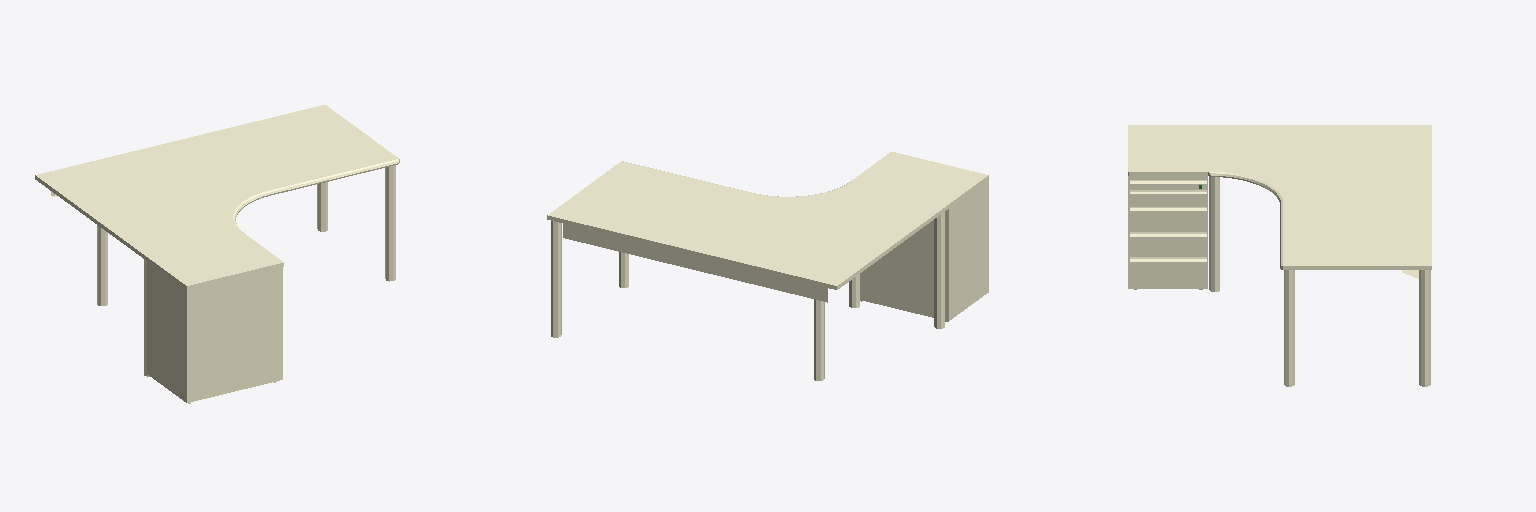
The model's file is desk2.obj.
The picture shows the model from 3 angles: view 1: azimuth 30°, elevation 25°; view 2: azimuth 150°, elevation 25°; view 3: azimuth 270°, elevation 25°; orthographic projection.
Parts seen in each view (by area): view 1: _2BNX13D05_7_16, _2BNL13D05_2_11, _2BNX13D05_7_7, _2BNL13D02_5_5, _2BNX13D07_1_1, _2BNL13D05_2_2, _2BNL13D02_5_14, _2BNX13D04_8_8; view 2: _2BNX13D05_7_16, _2BNX13D05_7_7, _2BNL13D05_2_11, _2BNX13D07_1_1, _2BNX13D03_9_18, _2BNL13D02_5_5, _2BNL13D02_5_14, _2BNL13D05_2_2; view 3: _2BNX13D05_7_16, _2BNX13D05_7_7, _2BNL13D04_3_12, _2BNX13D07_1_1, _2BNL13D02_5_5, _2BNL13D04_3_3, _2BNL13D02_5_14, _2BNX13D04_8_8.
Part boxes in pixels (left/top/right/bottom): _2BNX13D05_7_16: left=35, top=105, right=398, bottom=260; _2BNL13D05_2_11: left=147, top=262, right=282, bottom=402; _2BNX13D05_7_7: left=35, top=105, right=397, bottom=259; _2BNL13D02_5_5: left=147, top=233, right=282, bottom=289; _2BNX13D07_1_1: left=97, top=165, right=395, bottom=376; _2BNL13D05_2_2: left=147, top=263, right=282, bottom=402; _2BNL13D02_5_14: left=147, top=234, right=282, bottom=289; _2BNX13D04_8_8: left=208, top=159, right=399, bottom=232; _2BNX13D05_7_16: left=547, top=161, right=947, bottom=289; _2BNX13D05_7_7: left=547, top=161, right=948, bottom=289; _2BNL13D05_2_11: left=860, top=180, right=988, bottom=320; _2BNX13D07_1_1: left=551, top=212, right=944, bottom=380; _2BNX13D03_9_18: left=563, top=224, right=827, bottom=302; _2BNL13D02_5_5: left=853, top=152, right=988, bottom=207; _2BNL13D02_5_14: left=854, top=152, right=988, bottom=206; _2BNL13D05_2_2: left=860, top=184, right=988, bottom=321; _2BNX13D05_7_16: left=1208, top=125, right=1431, bottom=269; _2BNX13D05_7_7: left=1208, top=125, right=1431, bottom=269; _2BNL13D04_3_12: left=1130, top=180, right=1206, bottom=288; _2BNX13D07_1_1: left=1209, top=176, right=1430, bottom=386; _2BNL13D02_5_5: left=1128, top=125, right=1207, bottom=171; _2BNL13D04_3_3: left=1130, top=180, right=1206, bottom=288; _2BNL13D02_5_14: left=1128, top=126, right=1207, bottom=171; _2BNX13D04_8_8: left=1208, top=172, right=1282, bottom=269.
Size of the model in its own units: 180 by 72 by 163.